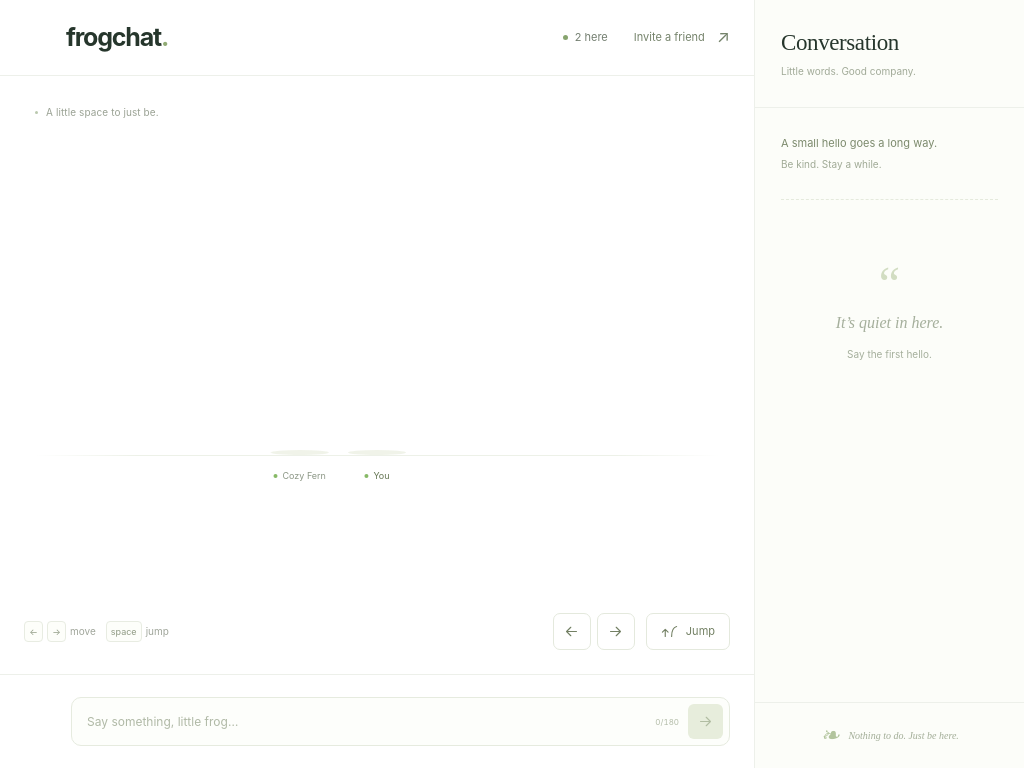
Test: does not restart the five-second bubble when a delayed save finally succeeds
In the field named "Your message": (362, 722) [78,704,646,738], type "Slow save"
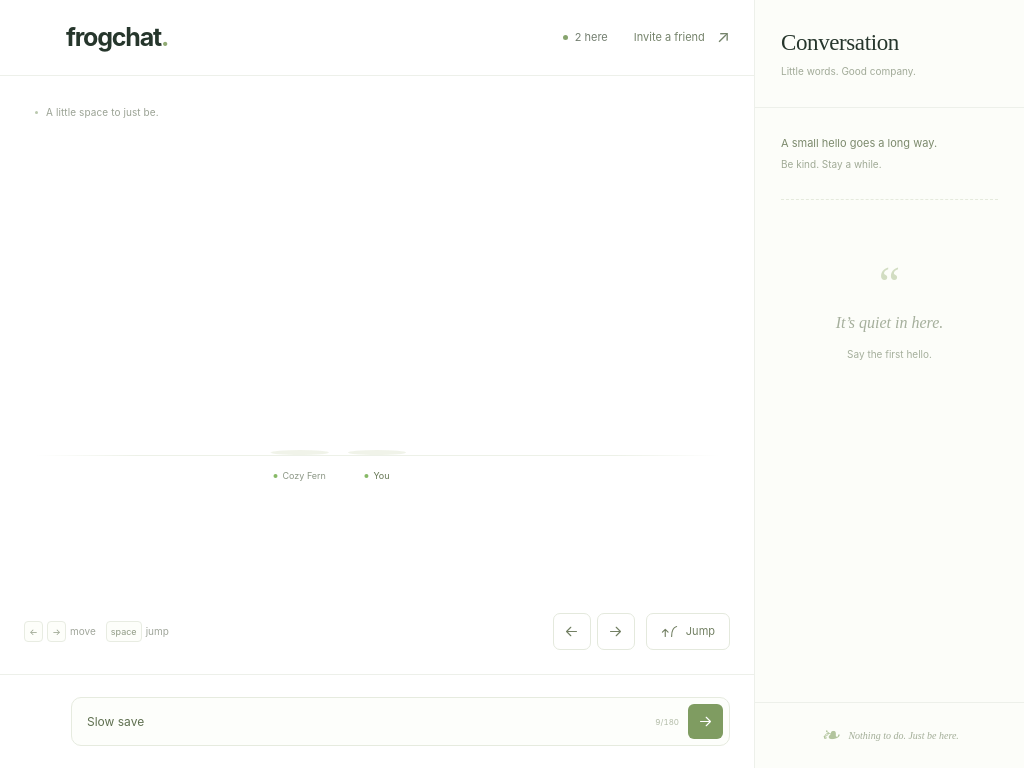
Submit the form named "Your message", box [71,697,730,746]
Wait 5001 ms
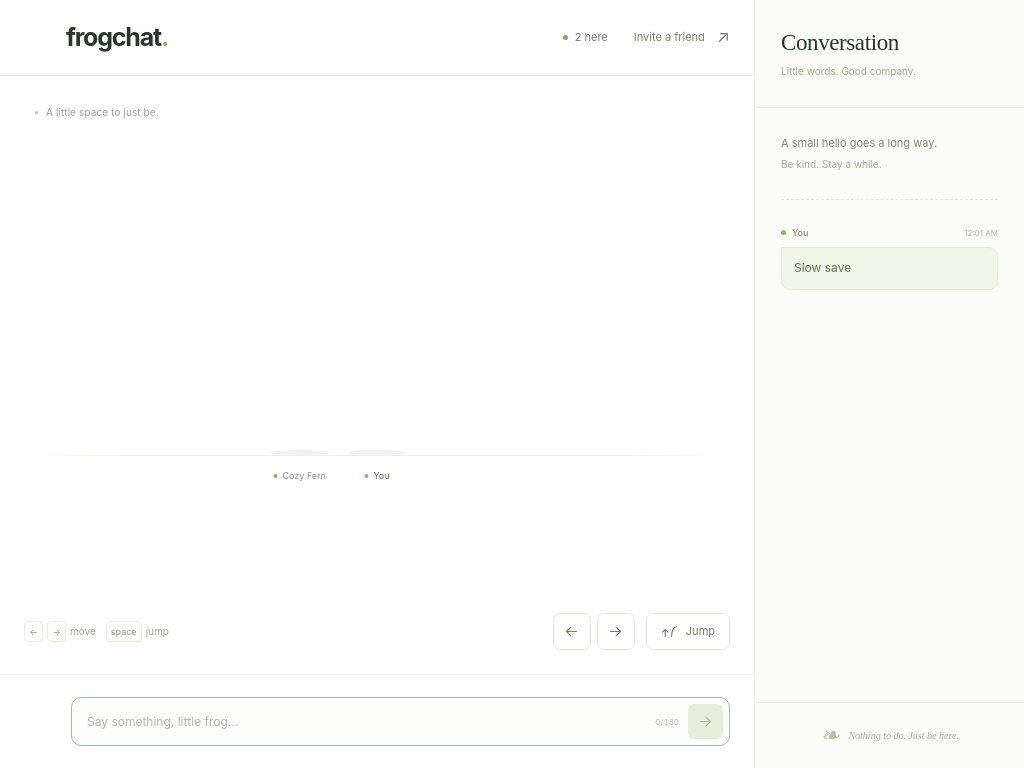
Check: the text "Slow save" is shown, box [781,247,998,290]
